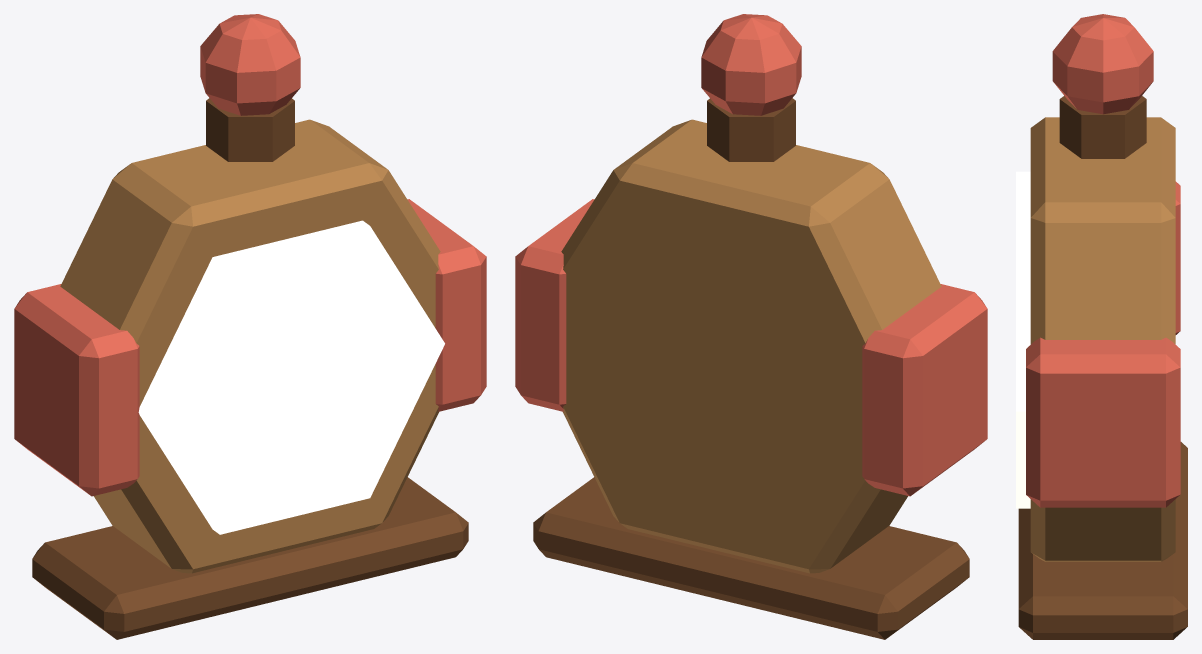
File: table_timer.glb
3 renders of one model, left to right at view 1: azimuth 30°, elevation 25°; view 2: azimuth 150°, elevation 25°; view 3: azimuth 270°, elevation 25°, orthographic. The views are drawn at different scales.
Visible parts, largest first — view 1: table_timer; view 2: table_timer; view 3: table_timer.
Boxes of the visible parts, x1=… form: table_timer: x1=14, y1=14, x2=486, y2=639; table_timer: x1=515, y1=14, x2=987, y2=639; table_timer: x1=1016, y1=14, x2=1187, y2=639.
Size of the model in its own units: 0.19 by 0.247 by 0.071.
